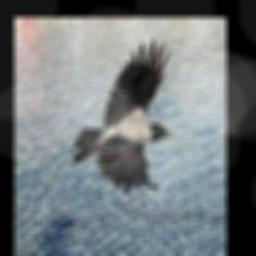Crow: (72, 37, 173, 190)
